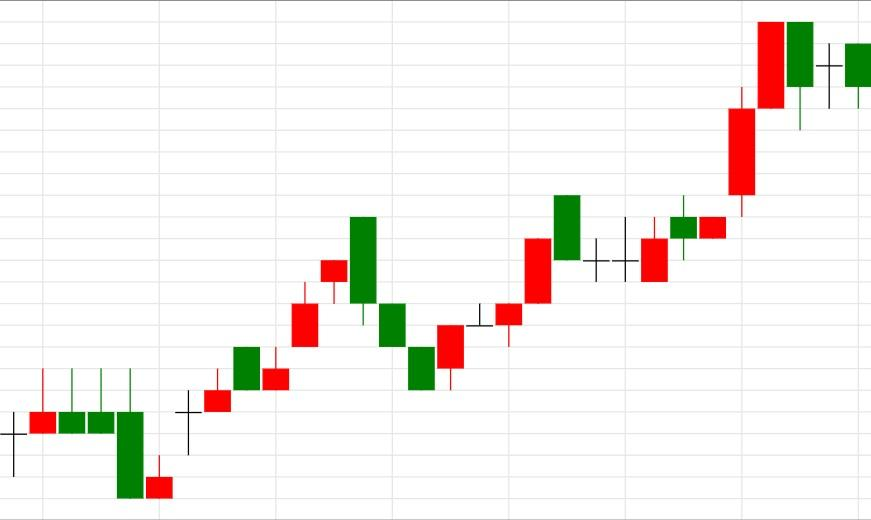bearish_engulfing_fall: (117, 216, 378, 499)
three_black_crows_fall: (118, 216, 436, 499)
